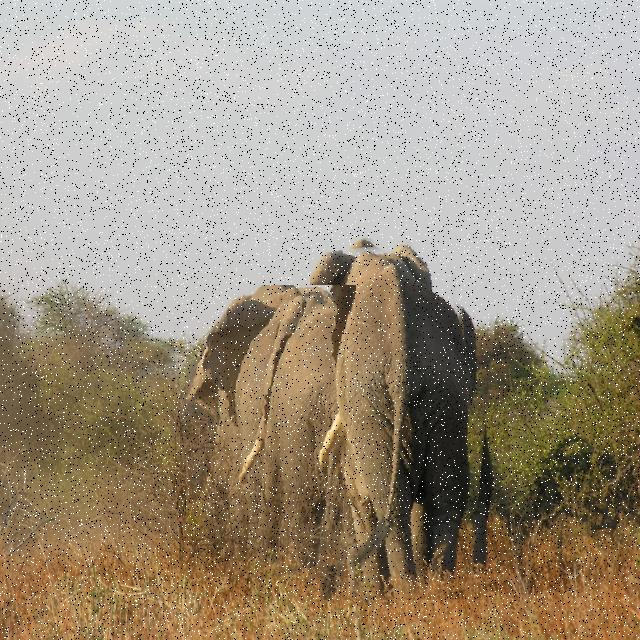elephant: (310, 234, 503, 600), (186, 285, 357, 581)
